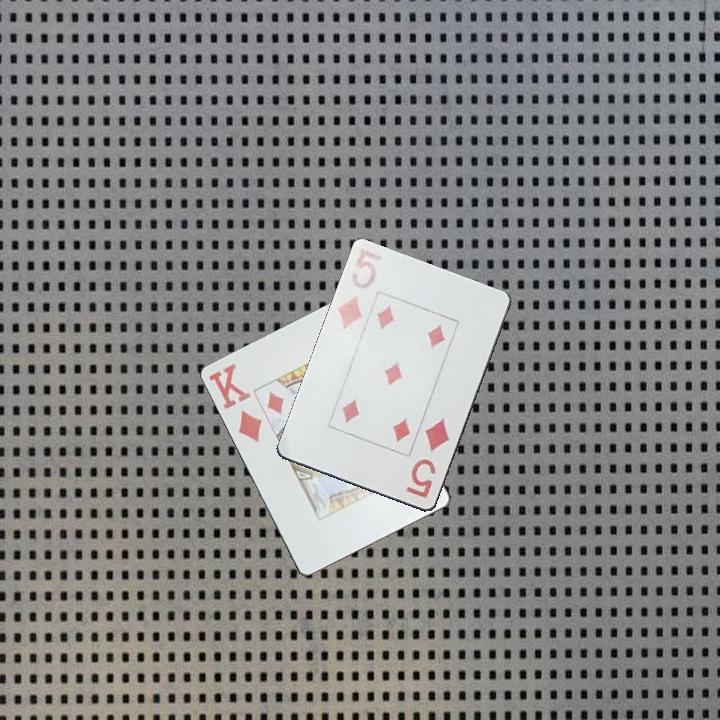5d: (403, 415, 453, 502), (334, 256, 380, 333)
Kd: (206, 360, 265, 446)
